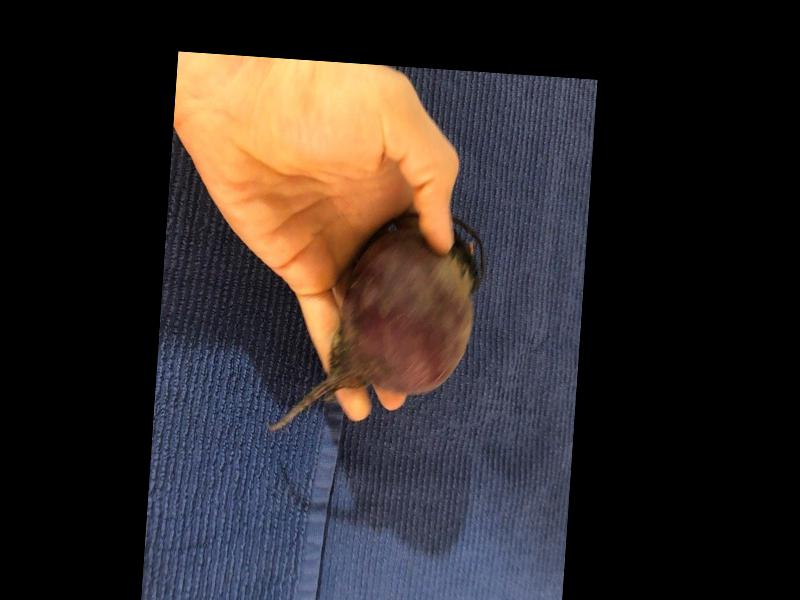Beet: (267, 205, 488, 446)
